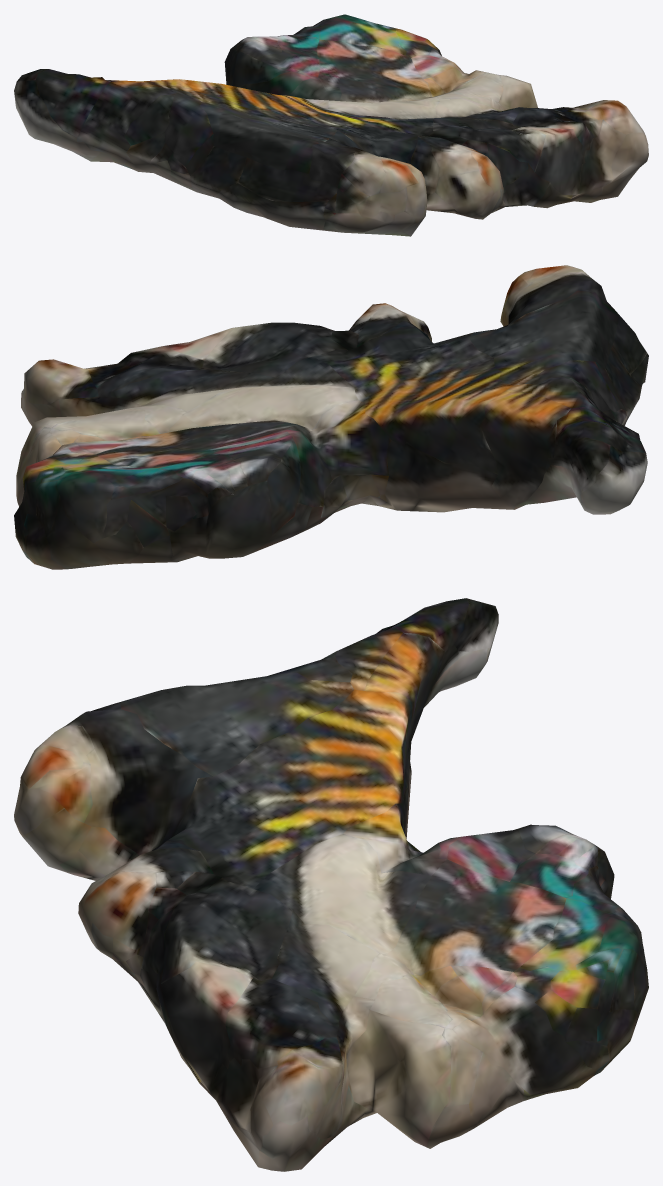
Rendered from hall.glb.
The picture shows the model from 3 angles, top to bottom: view 1: azimuth 30°, elevation 25°; view 2: azimuth 150°, elevation 25°; view 3: azimuth 270°, elevation 25°; orthographic projection. The views are drawn at different scales.
Bounding box in the file's own units: 0.7713 × 0.2582 × 0.5778.
1 material, 1 textured.
